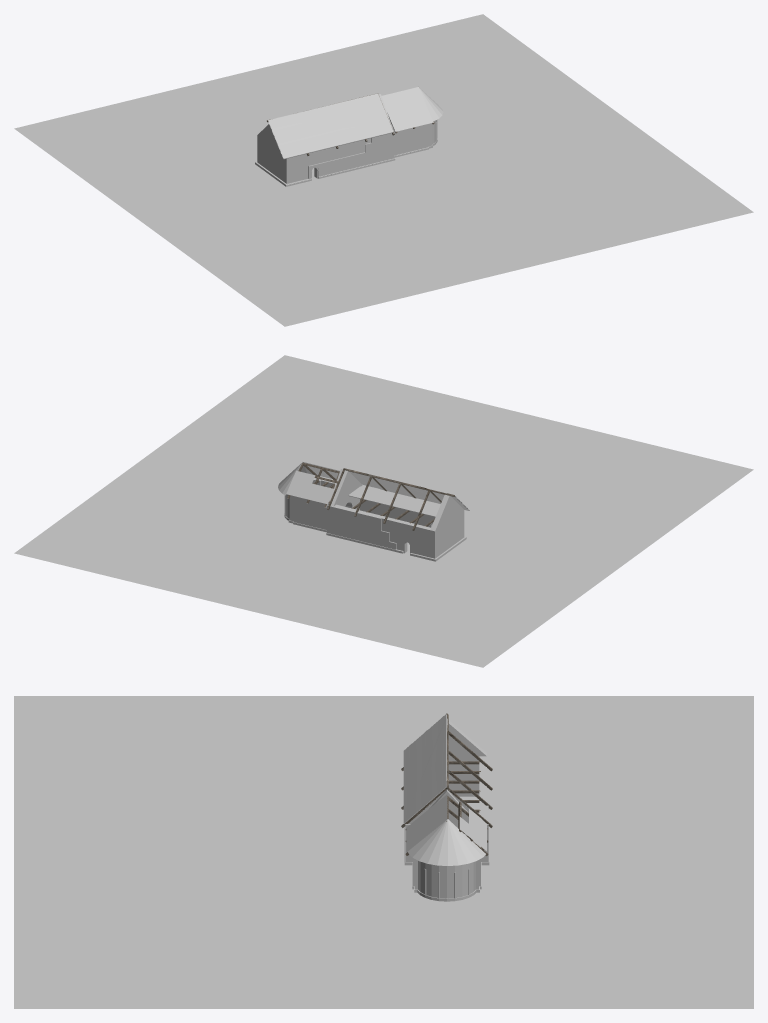
File: Churchie2.fbx
3 views of the same model, one above another, from view 1: azimuth 30°, elevation 25°; view 2: azimuth 150°, elevation 25°; view 3: azimuth 270°, elevation 25° (orthographic). The views are drawn at different scales.
Visible parts, largest first — view 1: Ground, Walls, MainRoof, BackRoof2; view 2: Ground, Walls, Attic, MainRoof, BackRoof1, MarnRoofBeams; view 3: Ground, Walls, MainRoof, RoundBackRoof, BackRoof2, MarnRoofBeams, BackRoof1.
Part boxes in pixels (<box>): Ground: <box>14,14,753,326</box>; Walls: <box>255,94,437,186</box>; MainRoof: <box>268,93,393,159</box>; BackRoof2: <box>381,87,433,131</box>; Ground: <box>14,355,753,667</box>; Walls: <box>284,462,466,561</box>; Attic: <box>348,486,439,516</box>; MainRoof: <box>347,468,469,510</box>; BackRoof1: <box>286,470,334,504</box>; MarnRoofBeams: <box>327,468,454,530</box>; Ground: <box>14,696,753,1008</box>; Walls: <box>404,720,489,901</box>; MainRoof: <box>403,714,447,823</box>; RoundBackRoof: <box>408,819,485,865</box>; BackRoof2: <box>406,794,447,852</box>; MarnRoofBeams: <box>401,713,492,827</box>; BackRoof1: <box>459,808,486,850</box>.
Bounding box in the file's own units: 119864 × 13731 × 119864.
